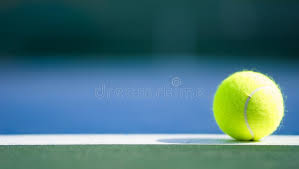tennis_ball: (213, 70, 284, 142)
